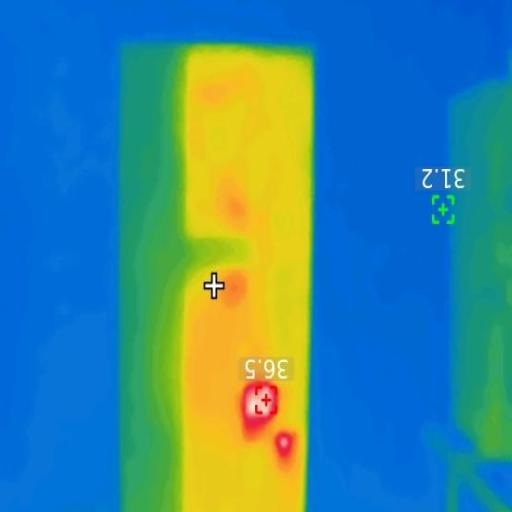hotspot: (241, 379, 278, 425), (274, 436, 292, 453)
